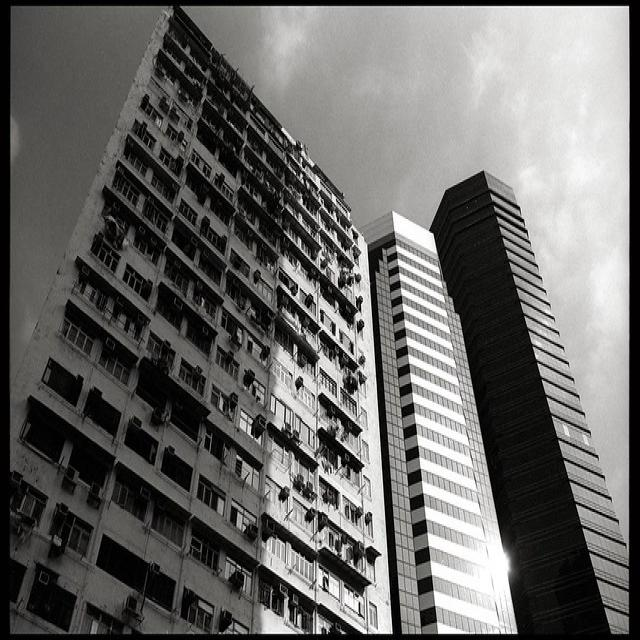Normal_building: (11, 5, 400, 632)
